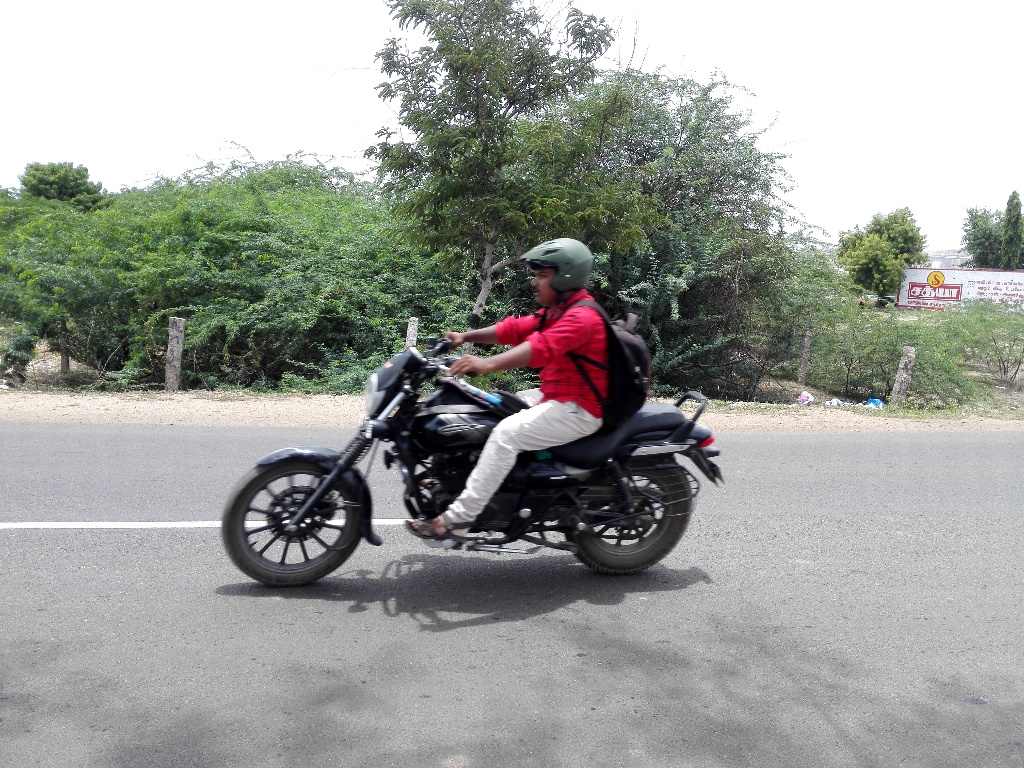biker: (204, 192, 753, 606)
helmet: (511, 226, 612, 312)
